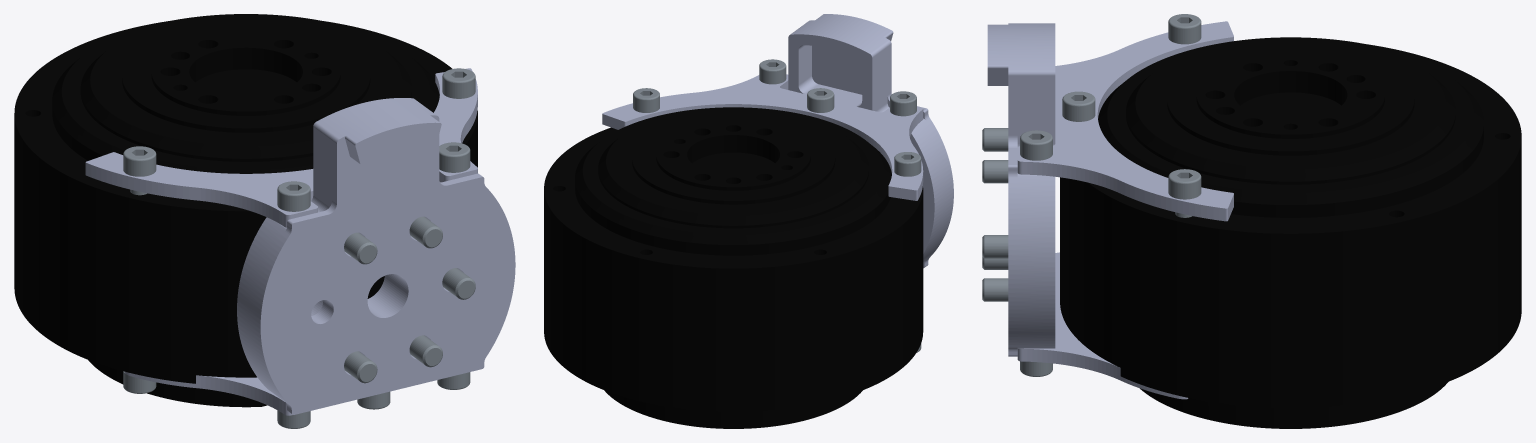
The model's file is left_arm_l1.glb.
3 renders of one model, left to right at view 1: azimuth 30°, elevation 25°; view 2: azimuth 150°, elevation 25°; view 3: azimuth 270°, elevation 25°, orthographic. The views are drawn at different scales.
Visible parts, largest first — view 1: world; view 2: world; view 3: world.
Part boxes in pixels (x1,y1,x2,y2): world: [14, 14, 515, 428]; world: [544, 14, 953, 428]; world: [982, 14, 1521, 428].
Bounding box in the file's own units: 98 × 74.7 × 115.
